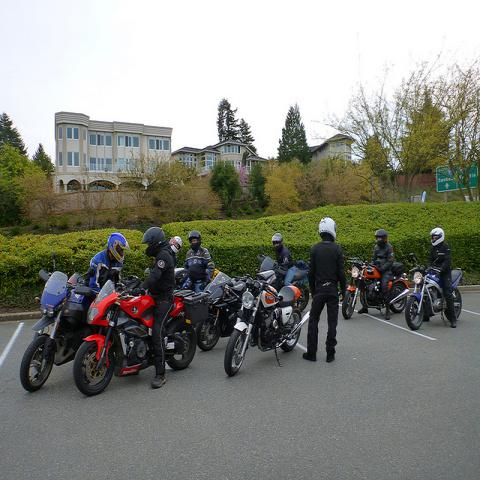motorcycle: (71, 268, 213, 400), (20, 253, 96, 393), (225, 278, 310, 378), (197, 268, 276, 350), (342, 249, 410, 319), (407, 268, 464, 328), (258, 256, 309, 311)
